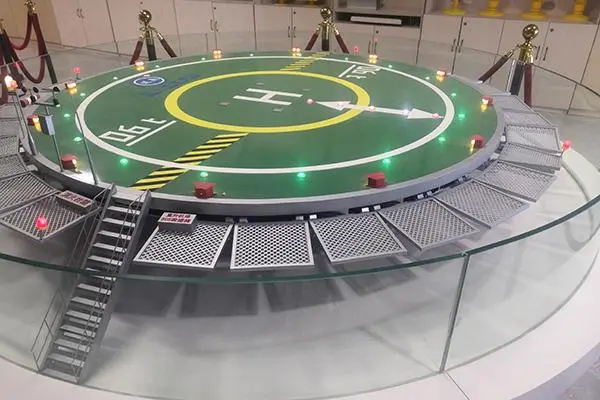Apron: (164, 70, 371, 134)
